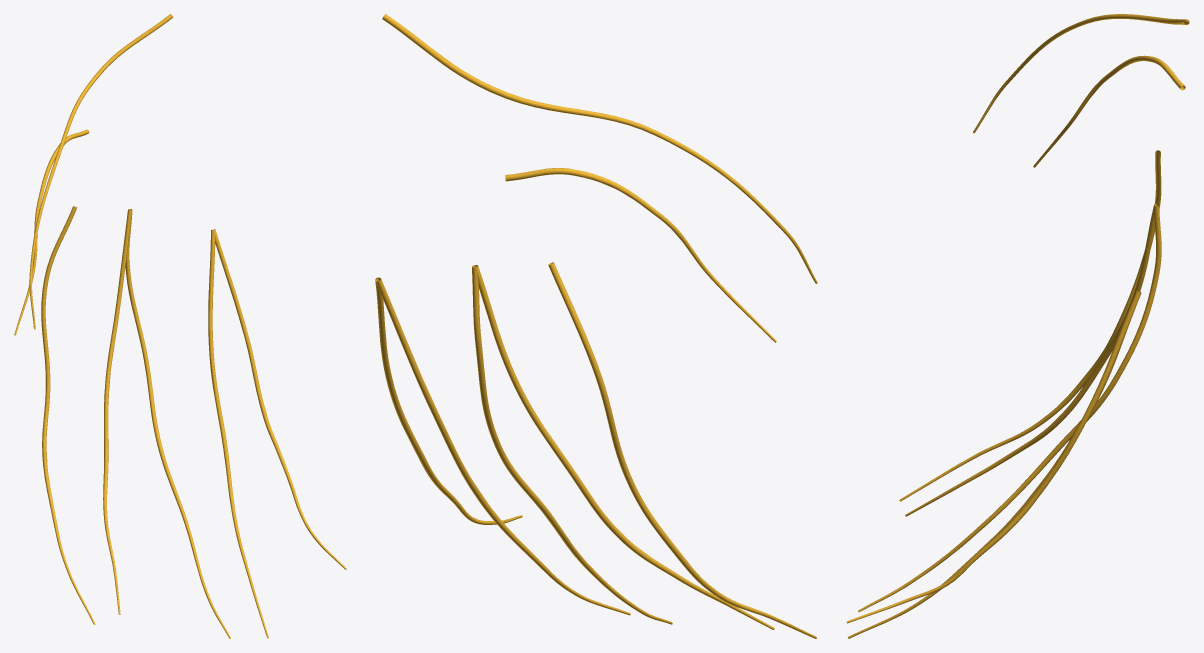
The model's file is nervoso-proper-palmar-digital-branches-of-median-nerve-r.glb.
The picture shows the model from 3 angles, left to right: view 1: azimuth 30°, elevation 25°; view 2: azimuth 150°, elevation 25°; view 3: azimuth 270°, elevation 25°; orthographic projection. The views are drawn at different scales.
Parts seen in each view (by area): view 1: Proper palmar digital branches of median nerve.r; view 2: Proper palmar digital branches of median nerve.r; view 3: Proper palmar digital branches of median nerve.r.
Boxes of the visible parts, x1=… form: Proper palmar digital branches of median nerve.r: x1=14, y1=14, x2=346, y2=638; Proper palmar digital branches of median nerve.r: x1=375, y1=14, x2=817, y2=638; Proper palmar digital branches of median nerve.r: x1=846, y1=14, x2=1189, y2=638.
Bounding box in the file's own units: 0.067 × 0.1263 × 0.0611.
